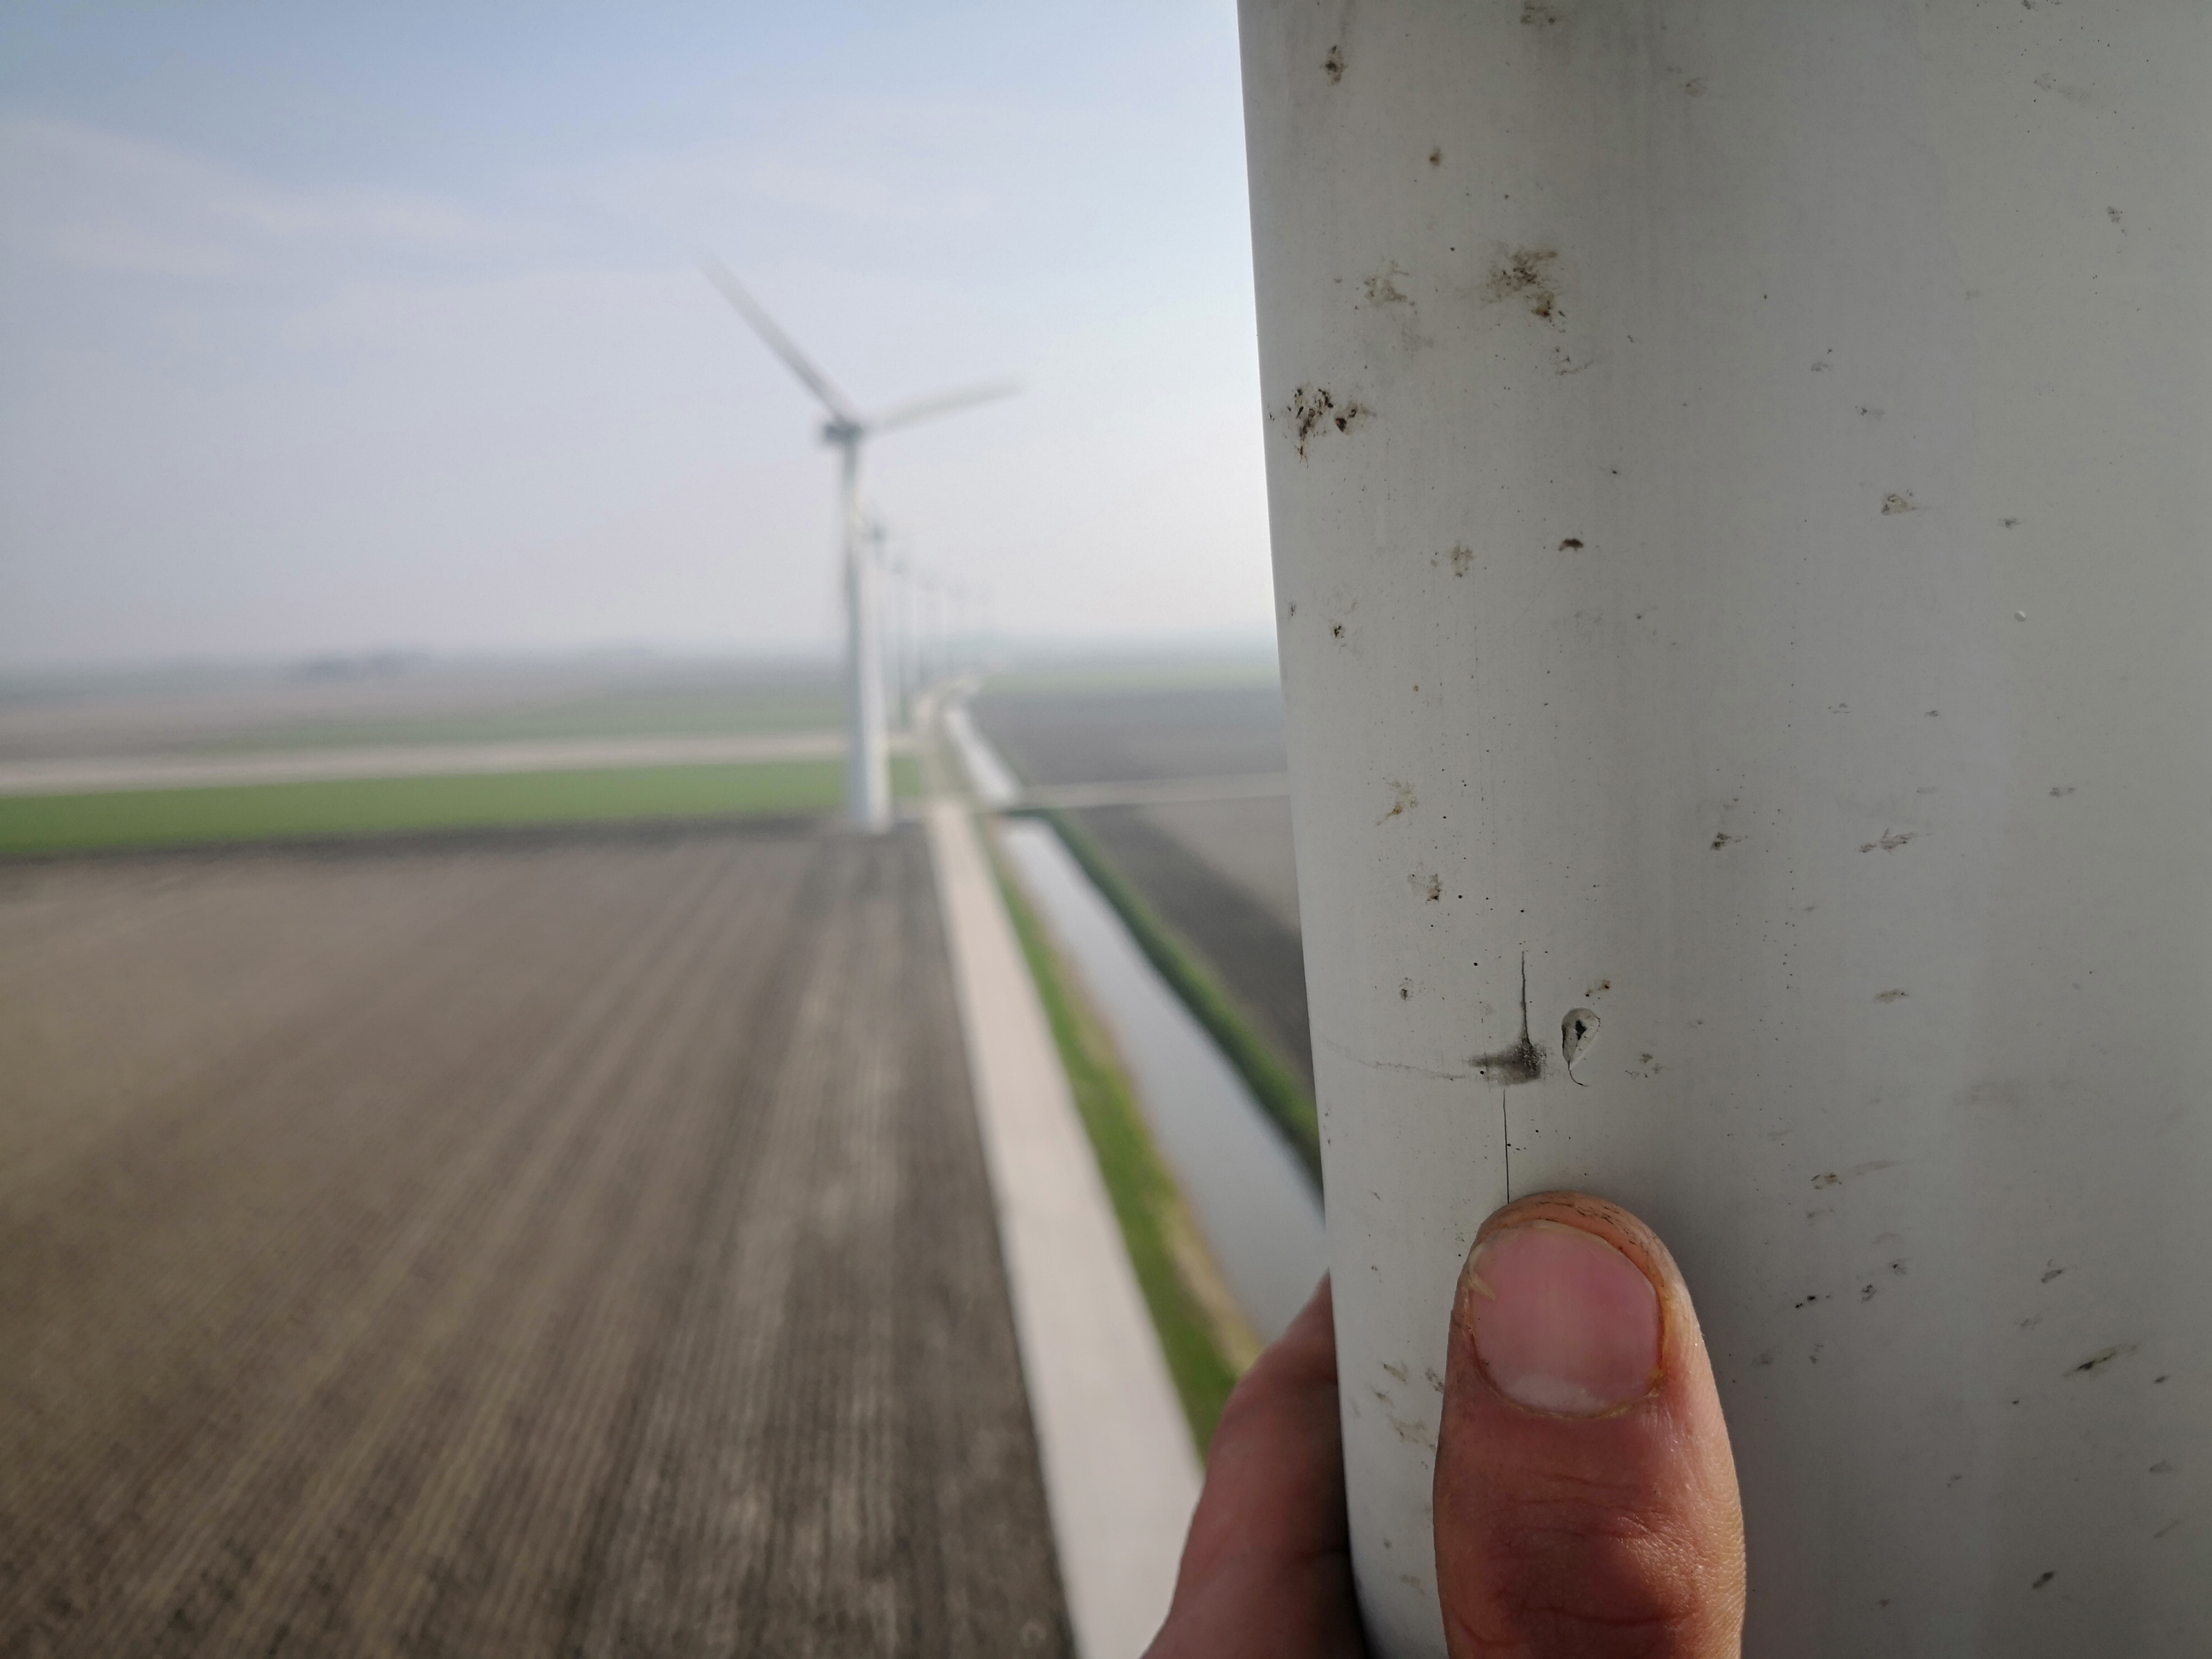SD: (1430, 922, 1648, 1141)
